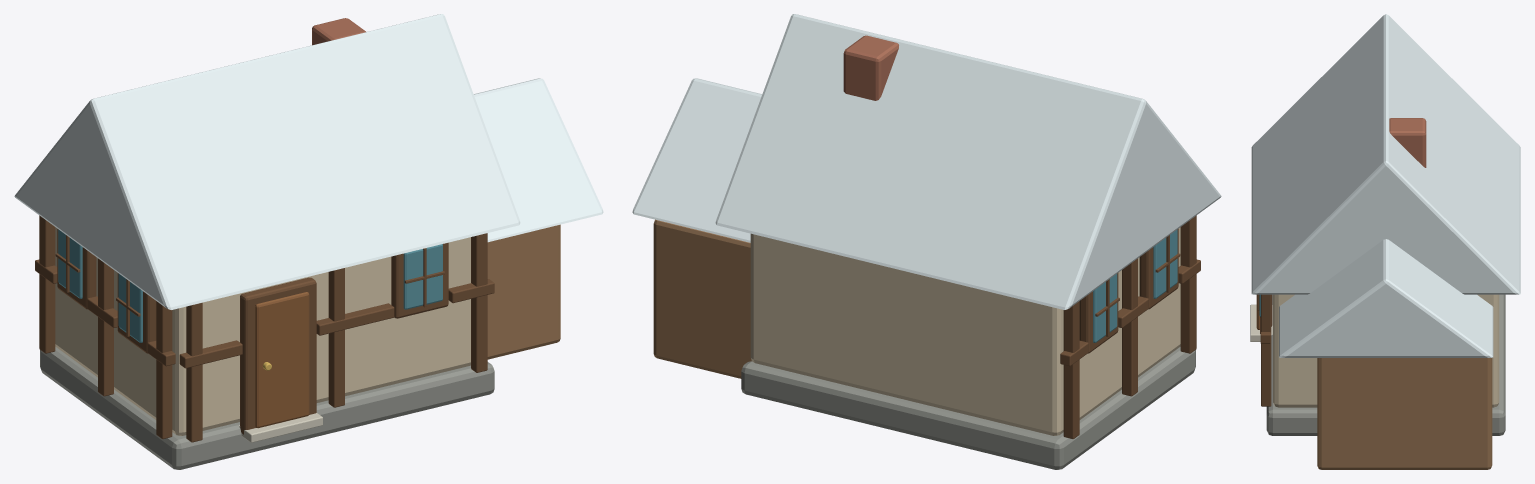
File: snowy-cottage-1.glb
3 views of the same model, side by side, from view 1: azimuth 30°, elevation 25°; view 2: azimuth 150°, elevation 25°; view 3: azimuth 270°, elevation 25° (orthographic). The views are drawn at different scales.
Parts seen in each view (by area): view 1: Snow, Ivory plaster, Dark beams, Foundation stone, Aged oak, Door oak, Blue glass, Cut limestone, Chimney brick; view 2: Snow, Ivory plaster, Foundation stone, Aged oak, Dark beams, Chimney brick, Blue glass; view 3: Snow, Aged oak, Ivory plaster, Foundation stone, Dark beams, Chimney brick, Cut limestone.
Part boxes in pixels (x1,y1,x2,y2): Snow: (14,14,603,309); Ivory plaster: (55,227,470,435); Dark beams: (35,215,494,442); Foundation stone: (40,347,494,469); Aged oak: (487,224,560,359); Door oak: (255,292,309,428); Blue glass: (58,229,442,342); Cut limestone: (238,413,322,442); Chimney brick: (312,18,365,45); Snow: (632,14,1221,309); Ivory plaster: (750,227,1180,435); Foundation stone: (741,347,1195,469); Aged oak: (653,219,751,378); Dark beams: (1060,215,1200,438); Chimney brick: (843,35,898,100); Blue glass: (1093,229,1177,342); Snow: (1251,14,1520,357); Aged oak: (1317,358,1492,469); Ivory plaster: (1273,294,1499,407); Foundation stone: (1266,294,1505,435); Dark beams: (1257,294,1272,406); Chimney brick: (1389,118,1426,167); Cut limestone: (1250,304,1272,341).
Size of the model in its own units: 4.4 by 3.03 by 2.63.
